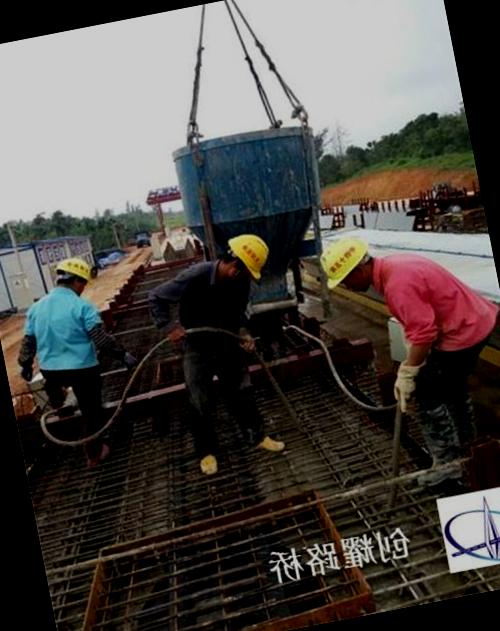helmet: (303, 224, 383, 295)
no_vest: (366, 236, 488, 370), (16, 275, 114, 389)
person: (280, 206, 500, 492), (132, 219, 320, 490), (0, 250, 139, 475)
